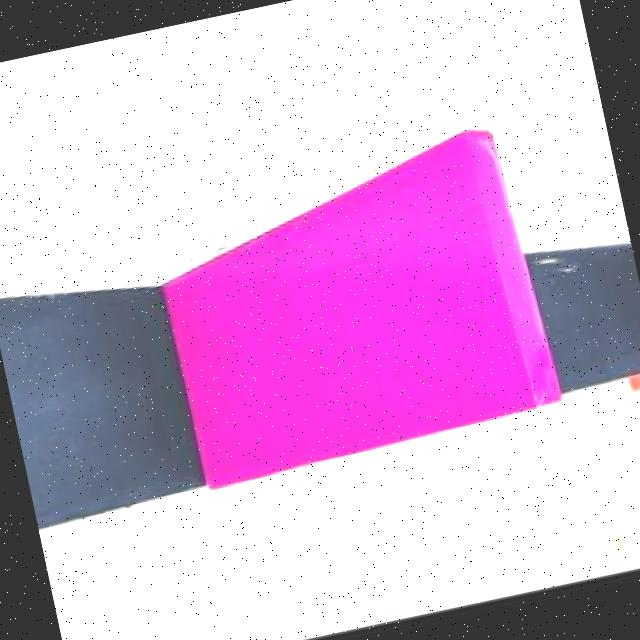xparking: (147, 161, 556, 478)
